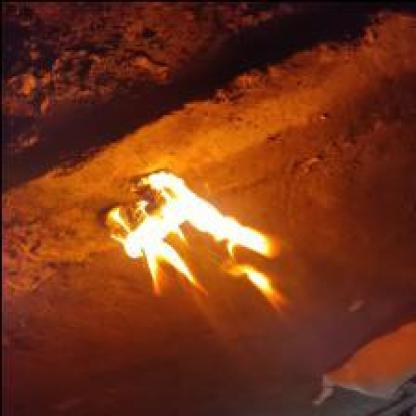Fire: (114, 166, 291, 328)
